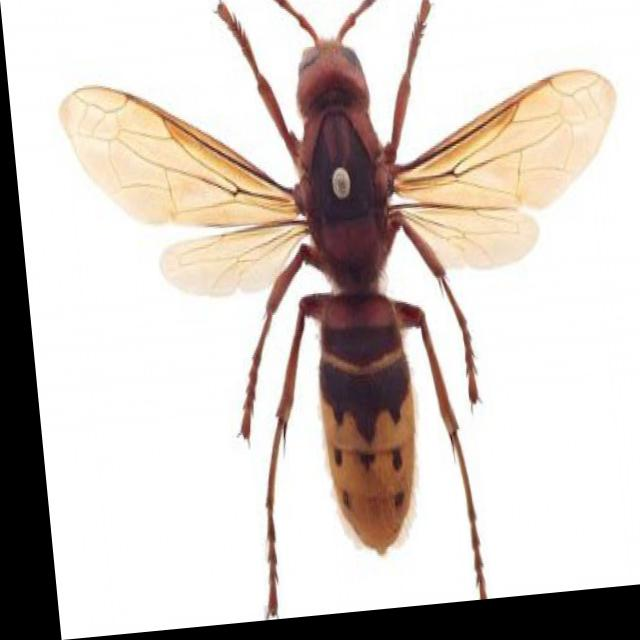Vespa Orientalis: (37, 0, 639, 636)
